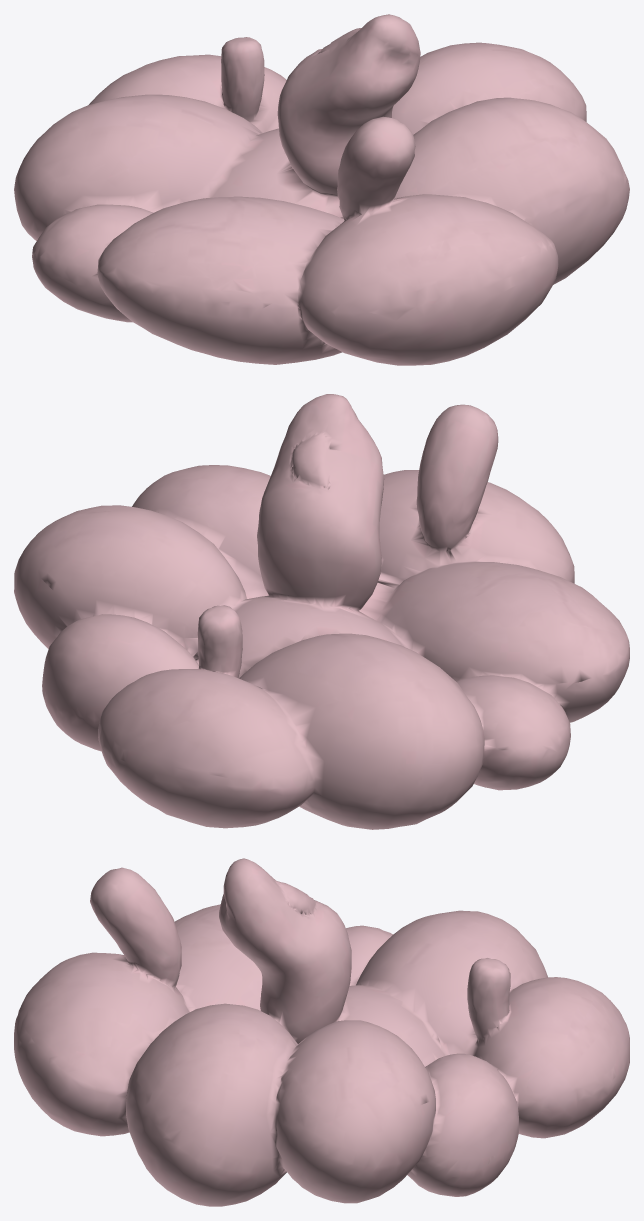
The model's file is cloud_fluffy.glb.
The picture shows the model from 3 angles, top to bottom: view 1: azimuth 30°, elevation 25°; view 2: azimuth 150°, elevation 25°; view 3: azimuth 270°, elevation 25°; orthographic projection. The views are drawn at different scales.
Visible parts, largest first — view 1: tripo_node_e1316d0c-da86-483b-8486-655b04c29add; view 2: tripo_node_e1316d0c-da86-483b-8486-655b04c29add; view 3: tripo_node_e1316d0c-da86-483b-8486-655b04c29add.
Part boxes in pixels (<box>): tripo_node_e1316d0c-da86-483b-8486-655b04c29add: <box>14,14,629,365</box>; tripo_node_e1316d0c-da86-483b-8486-655b04c29add: <box>14,394,629,829</box>; tripo_node_e1316d0c-da86-483b-8486-655b04c29add: <box>14,858,629,1206</box>.
Size of the model in its own units: 0.9668 by 0.5566 by 0.998.
1 material, 1 textured.
